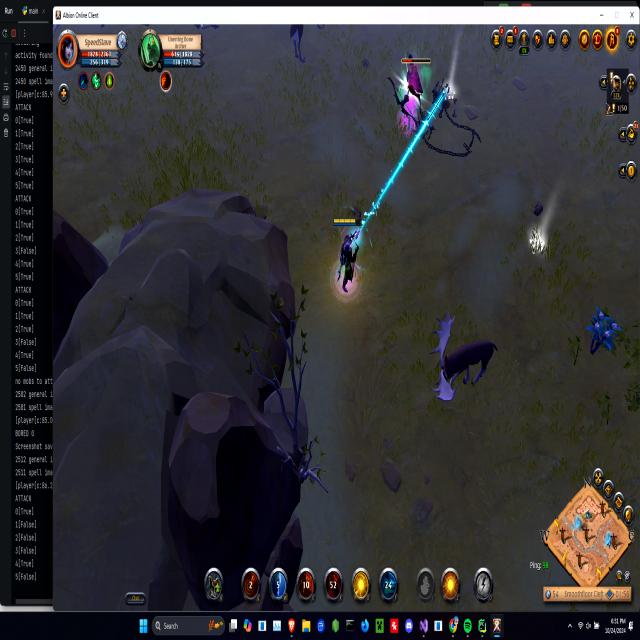hide: (586, 304, 622, 361)
ore: (427, 308, 498, 408), (393, 50, 432, 140)
red: (329, 211, 367, 302)
